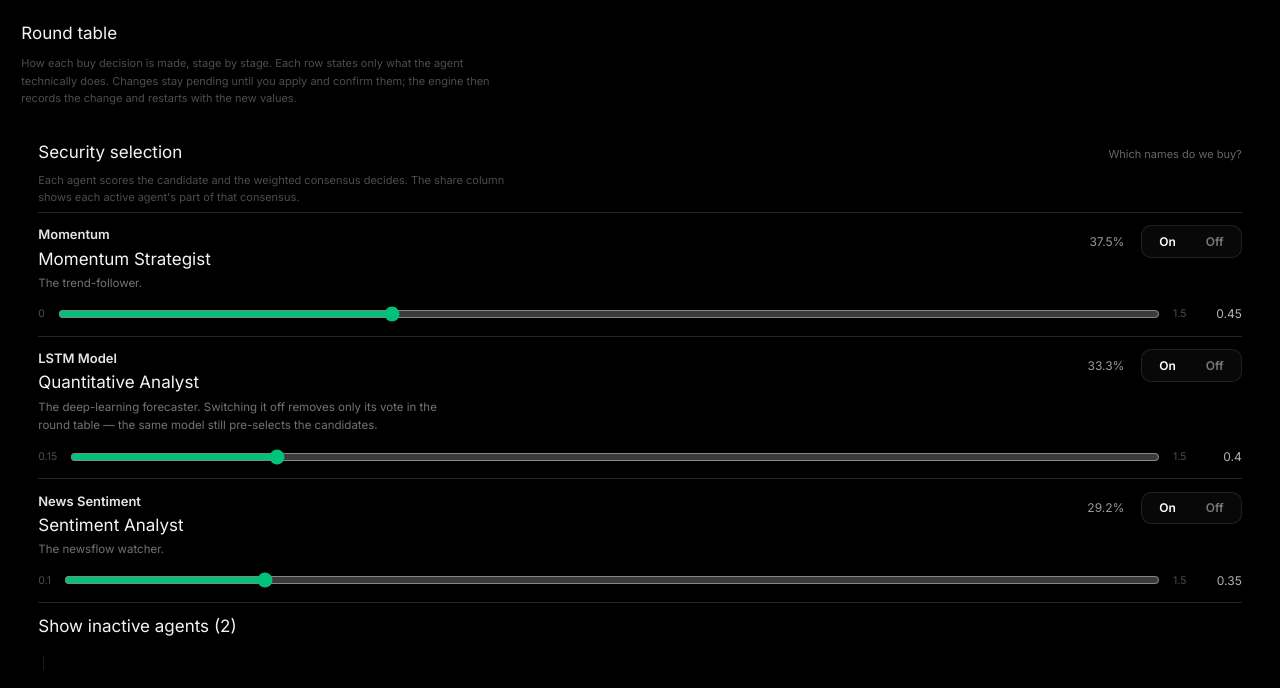
Test: Round table card (UXC-1 S4) › T3: consensus share = weight / sum of ACTIVE voters; a disabled voter shows a dash and the rest renormalize
Check: the text "37.5%" is shown, box left=1090, top=234, right=1124, bottom=249
// disable News via its On/Off toggle → sum 0.85 → Momentum 52.9%, News row shows —
Click the button "Off" in the row of "29.2%". click: click(1215, 508)
box: left=1191, top=495, right=1239, bottom=521
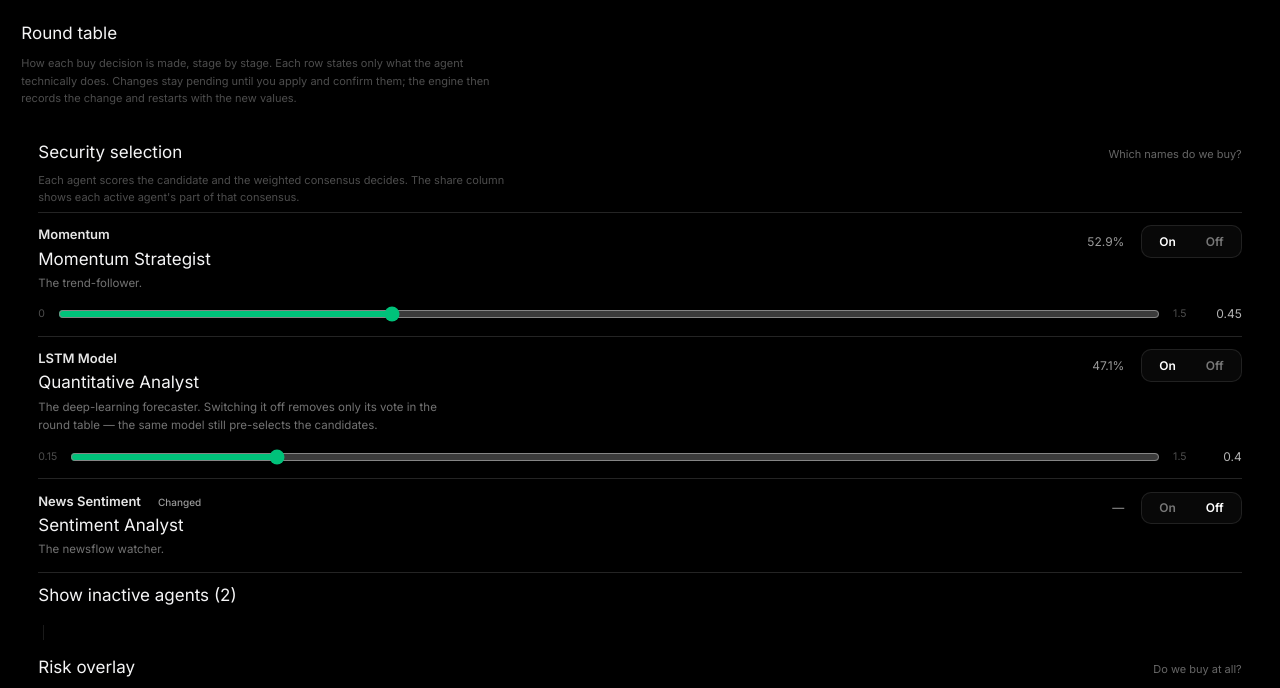
Check: the text "52.9%" is shown, box left=1087, top=234, right=1124, bottom=249
Check: the element with test id "agent-row-NewsSentimentAgent" shows "—", box left=1112, top=500, right=1124, bottom=515
